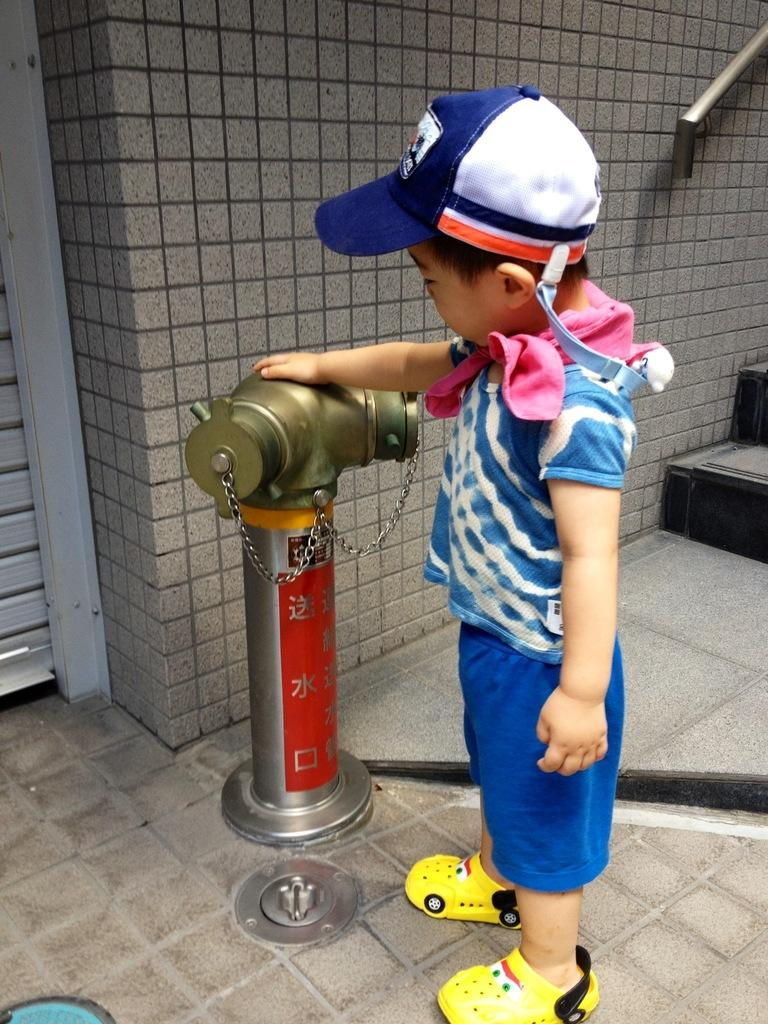Hat: (312, 84, 630, 390)
